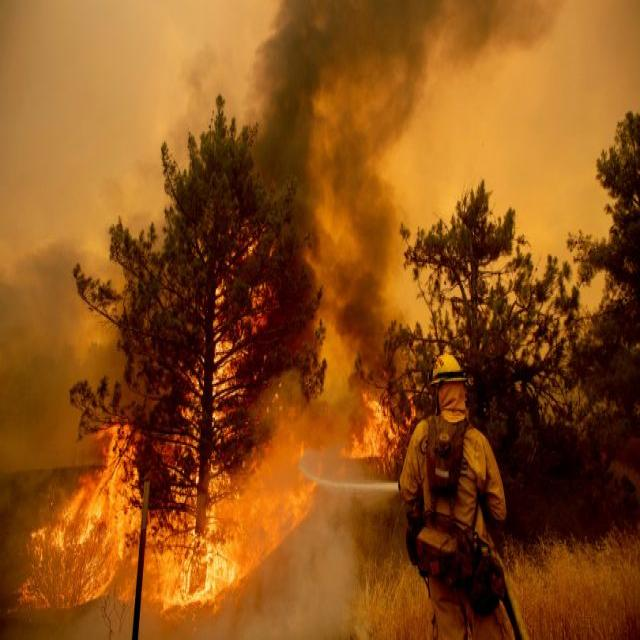Fire: (22, 422, 144, 629), (142, 518, 244, 606), (345, 389, 399, 460)
Smoke: (254, 0, 501, 314)
